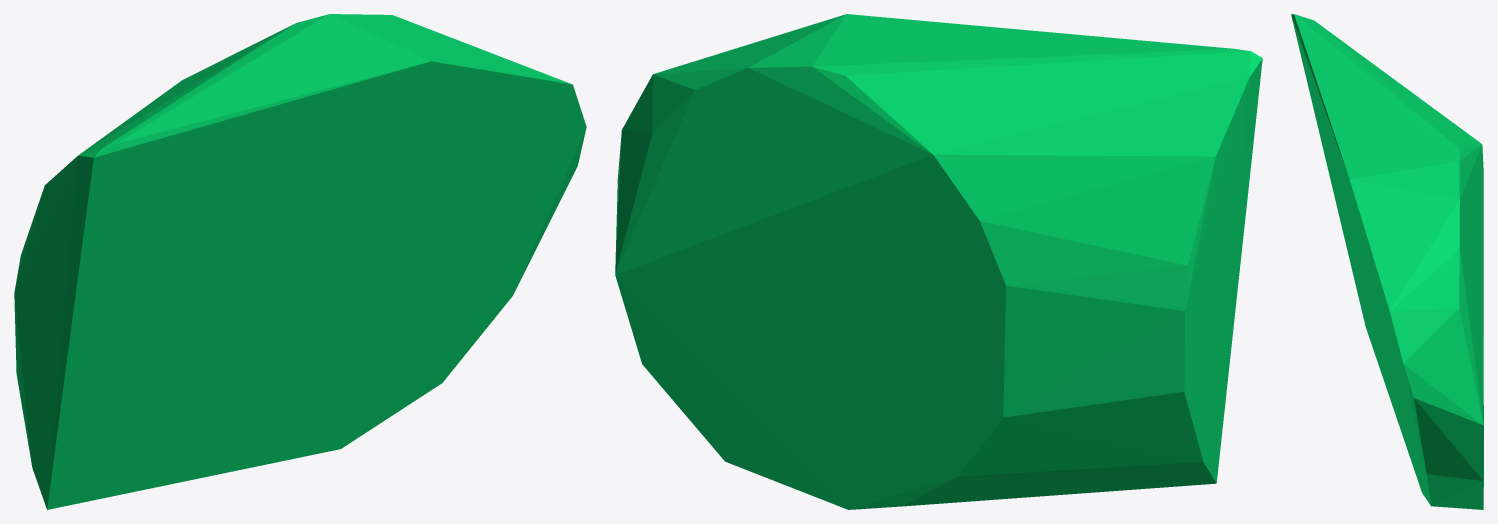
File: hip-yaw-housing_convex_piece_003.obj
3 views of the same model, side by side, from view 1: azimuth 30°, elevation 25°; view 2: azimuth 150°, elevation 25°; view 3: azimuth 270°, elevation 25° (orthographic). The views are drawn at different scales.
Bounding box in the file's own units: 0.0855 × 0.0632 × 0.0313.
